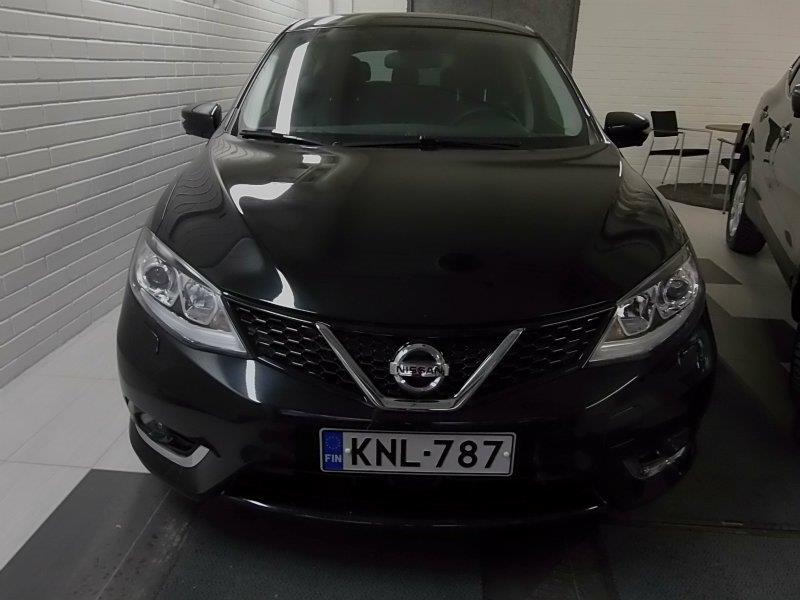license: (319, 429, 509, 474)
